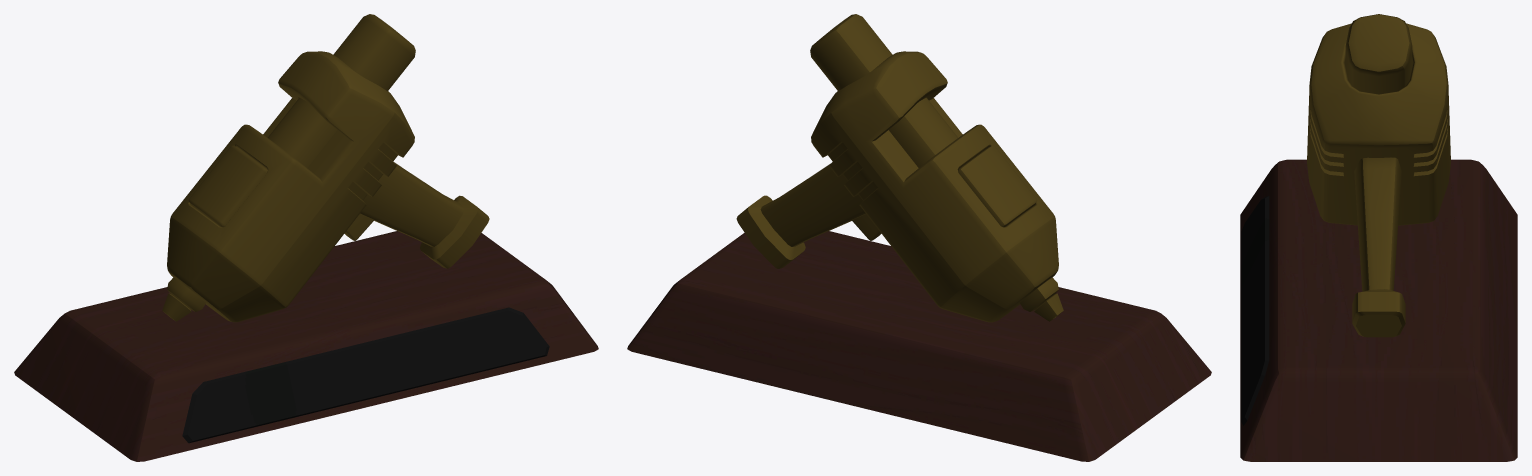
Rendered from contest trophy maker pen.glb.
3 views of the same model, side by side, from view 1: azimuth 30°, elevation 25°; view 2: azimuth 150°, elevation 25°; view 3: azimuth 270°, elevation 25° (orthographic). The views are drawn at different scales.
Parts seen in each view (by area): view 1: Trophy_MakerPen; view 2: Trophy_MakerPen; view 3: Trophy_MakerPen.
Part boxes in pixels (x1,y1,x2,y2): Trophy_MakerPen: [14, 14, 598, 461]; Trophy_MakerPen: [627, 14, 1211, 461]; Trophy_MakerPen: [1240, 14, 1517, 461].
Bounding box in the file's own units: 0.4811 × 0.3201 × 0.2241.
Materials: 1 (1 with a texture image).
